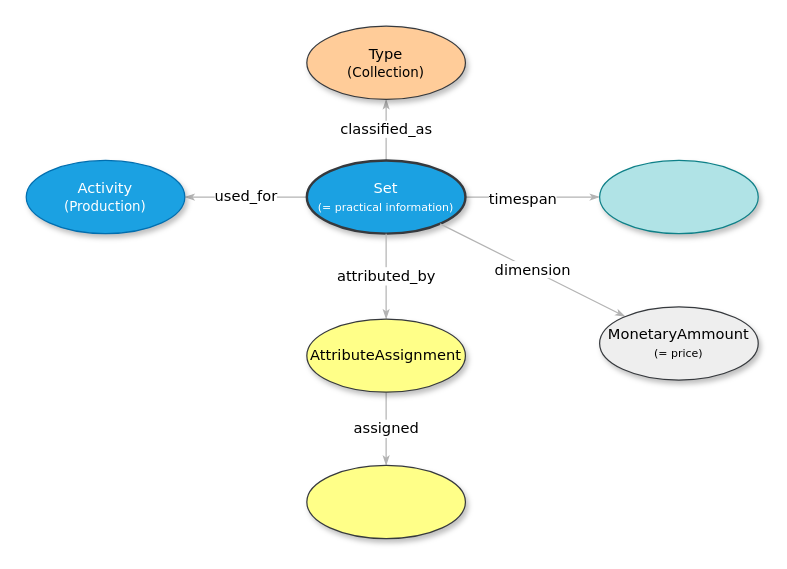
The diagram is 787 pixels wide and 569 high, and some of its shapes have lost their labels. Here are the shapes that lost their labels. From the top down, the centre of each, then its label:
At (x=680, y=198): "Duration (= duration of the show)".
At (x=387, y=503): "HumanMadeObject (= Festival programme)".
